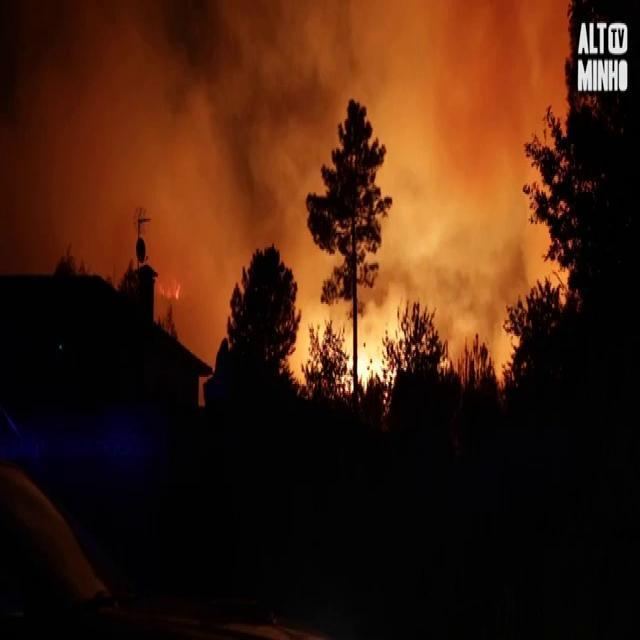Fire: (345, 320, 390, 393), (156, 270, 181, 302)
Smoke: (9, 7, 569, 389), (0, 0, 260, 311), (394, 209, 548, 358)
